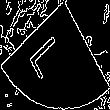L_NE: (34, 28, 76, 82)
